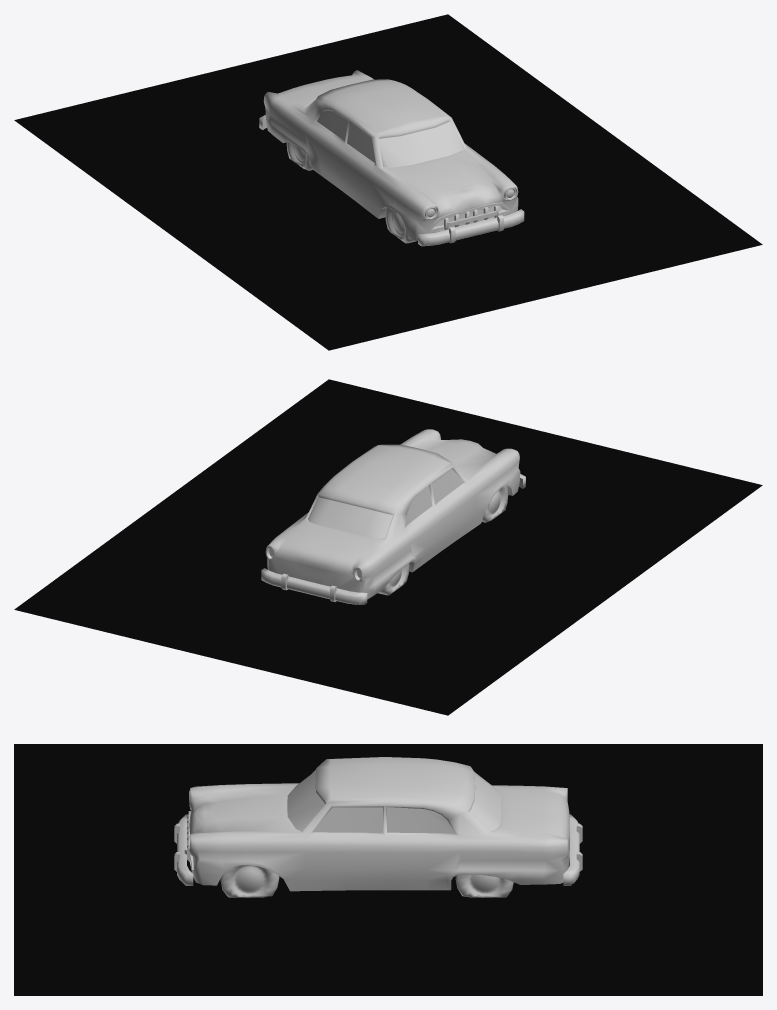
File: green.gltf
3 renders of one model, top to bottom at view 1: azimuth 30°, elevation 25°; view 2: azimuth 150°, elevation 25°; view 3: azimuth 270°, elevation 25°, orthographic. The views are drawn at different scales.
Parts seen in each view (by area): view 1: Plane001, Object006_Material #294_0, Object007_Material #295_0; view 2: Plane001, Object006_Material #294_0, Object007_Material #295_0; view 3: Plane001, Object006_Material #294_0, Object007_Material #295_0.
Boxes of the visible parts, x1,y1,x2,y2 form: Plane001: (14, 14, 762, 350); Object006_Material #294_0: (259, 70, 524, 246); Object007_Material #295_0: (317, 110, 463, 168); Plane001: (14, 379, 762, 715); Object006_Material #294_0: (261, 429, 525, 604); Object007_Material #295_0: (308, 469, 465, 538); Plane001: (14, 744, 762, 995); Object006_Material #294_0: (174, 757, 582, 897); Object007_Material #295_0: (287, 771, 501, 833).
Bounding box in the file's own units: 1056 × 185 × 1327.
